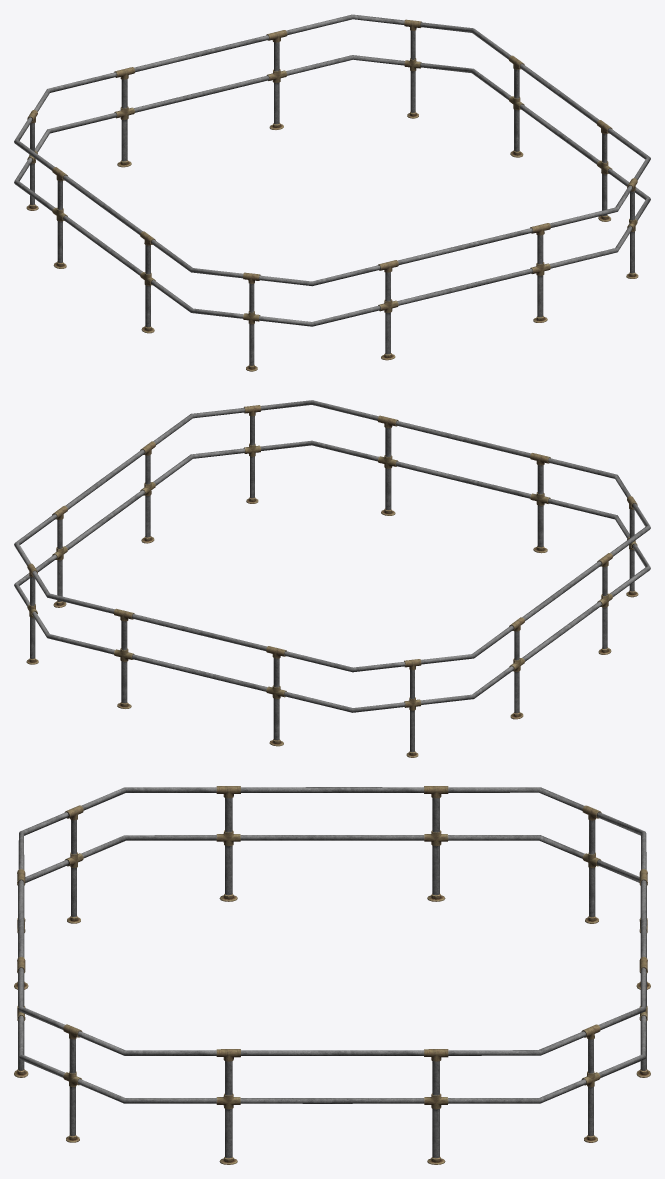
The model's file is 03_02_containment_room_railing_big.dae.
The picture shows the model from 3 angles, top to bottom: view 1: azimuth 30°, elevation 25°; view 2: azimuth 150°, elevation 25°; view 3: azimuth 270°, elevation 25°; orthographic projection. The views are drawn at different scales.
Parts seen in each view (by area): view 1: polySurface8; view 2: polySurface8; view 3: polySurface8.
Part boxes in pixels (x1=…): polySurface8: x1=14, y1=14, x2=650, y2=371; polySurface8: x1=14, y1=400, x2=650, y2=757; polySurface8: x1=14, y1=786, x2=650, y2=1164.
Bounding box in the file's own units: 7.67 × 1.49 × 7.67.
